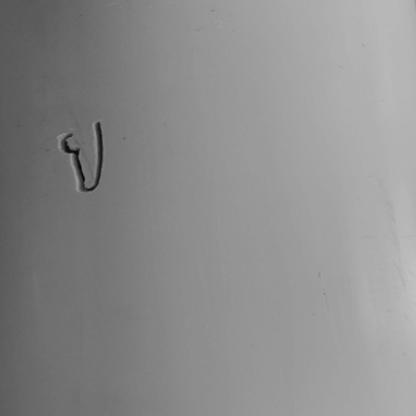fengxi: (52, 117, 111, 204)
